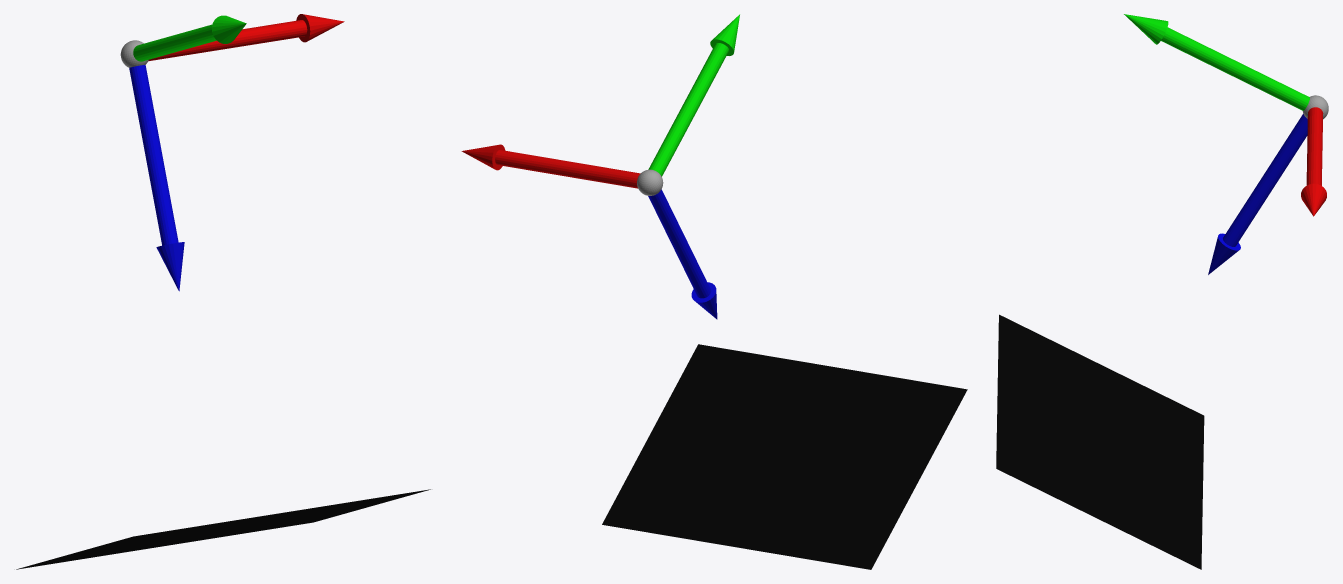
3 views of the same model, side by side, from view 1: azimuth 30°, elevation 25°; view 2: azimuth 150°, elevation 25°; view 3: azimuth 270°, elevation 25° (orthographic). The views are drawn at different scales.
Bounding box in the file's own units: 0.2334 × 0.3179 × 0.1889.
